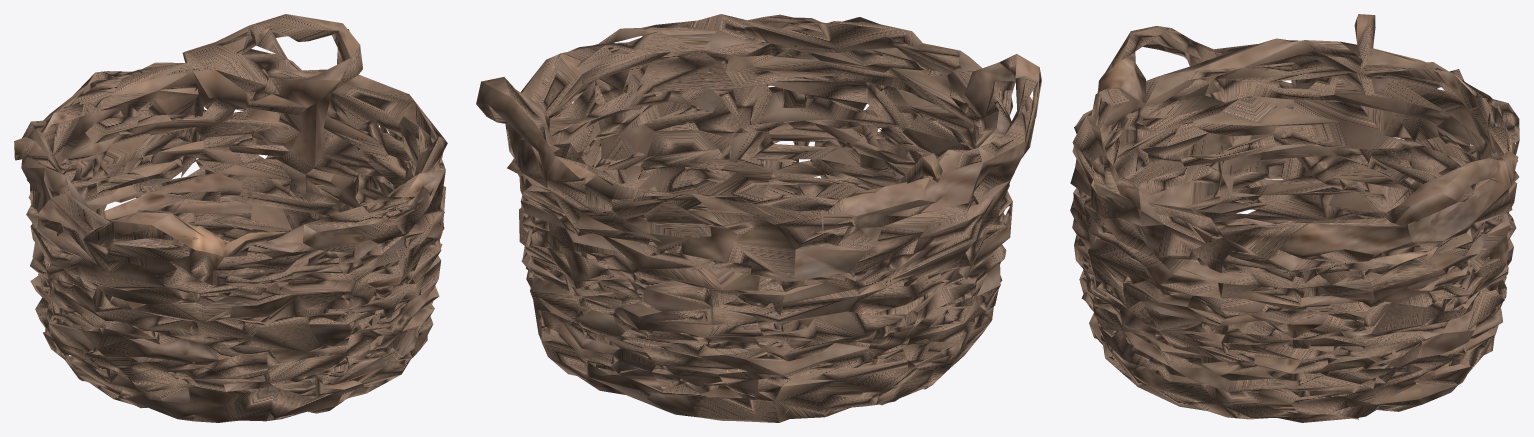
3 renders of one model, left to right at view 1: azimuth 30°, elevation 25°; view 2: azimuth 150°, elevation 25°; view 3: azimuth 270°, elevation 25°, orthographic. The views are drawn at different scales.
Visible parts, largest first — view 1: geometry_0; view 2: geometry_0; view 3: geometry_0.
Part boxes in pixels (x1,y1,x2,y2): geometry_0: (14,14,447,422); geometry_0: (476,14,1041,422); geometry_0: (1070,14,1519,422).
Bounding box in the file's own units: 0.35 × 0.2174 × 0.3439.
1 material, 1 textured.
